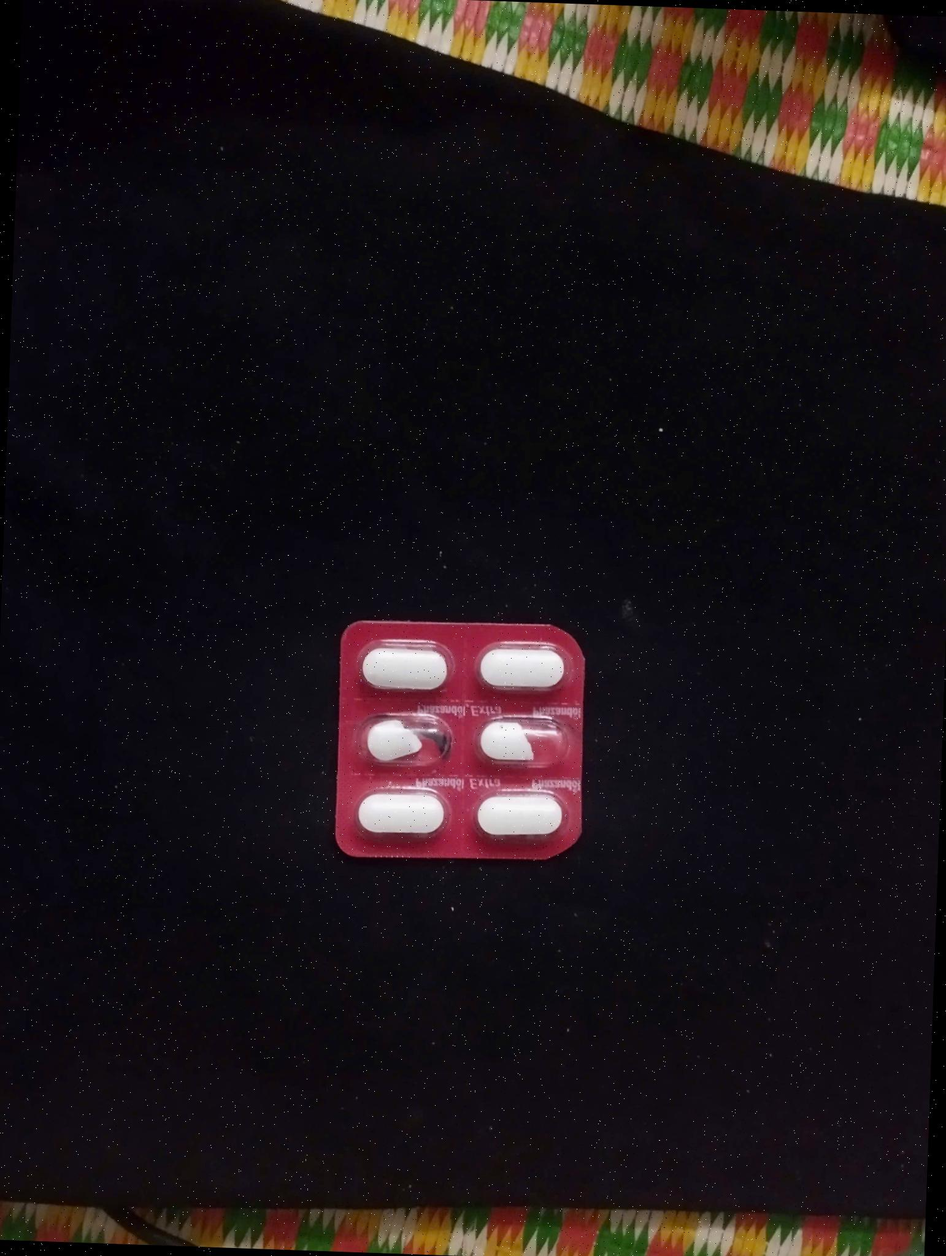Full: (350, 779, 452, 841), (355, 642, 452, 700), (469, 786, 567, 843), (479, 639, 571, 696)
Partial: (358, 705, 456, 768), (473, 710, 560, 772)
